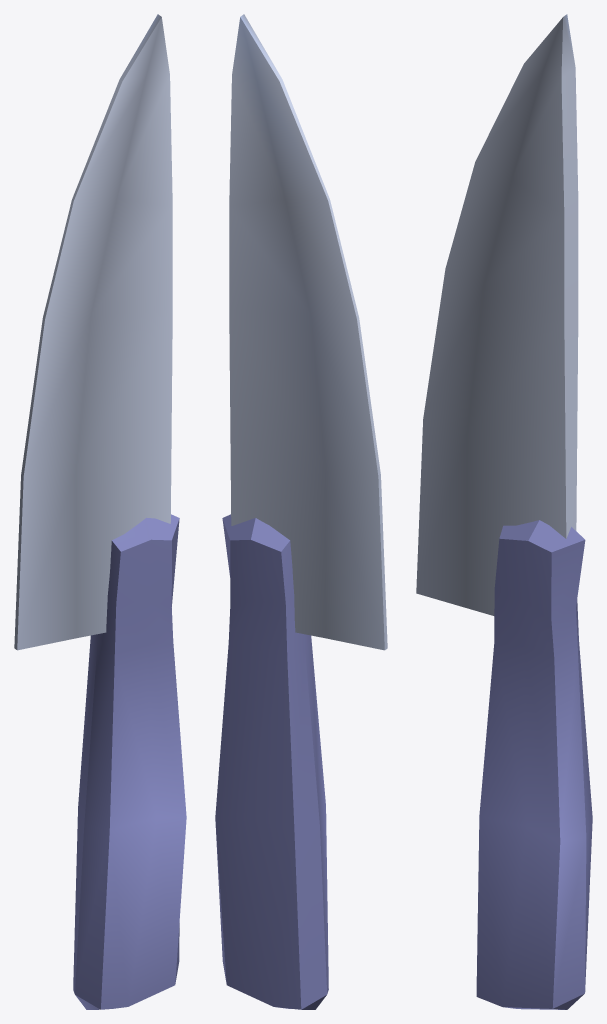
The model's file is knife2.fbx.
The picture shows the model from 3 angles, left to right: view 1: azimuth 30°, elevation 25°; view 2: azimuth 150°, elevation 25°; view 3: azimuth 330°, elevation 25°; orthographic projection. The views are drawn at different scales.
Visible parts, largest first — view 1: Blade.001, Handle.001; view 2: Blade.001, Handle.001; view 3: Blade.001, Handle.001.
Part boxes in pixels (x1,y1,x2,y2): Blade.001: [14, 14, 172, 650]; Handle.001: [73, 514, 186, 1009]; Blade.001: [229, 14, 387, 650]; Handle.001: [215, 514, 328, 1009]; Blade.001: [416, 14, 578, 615]; Handle.001: [476, 520, 592, 1009].
Bounding box in the file's own units: 34.48 × 196 × 12.43.
